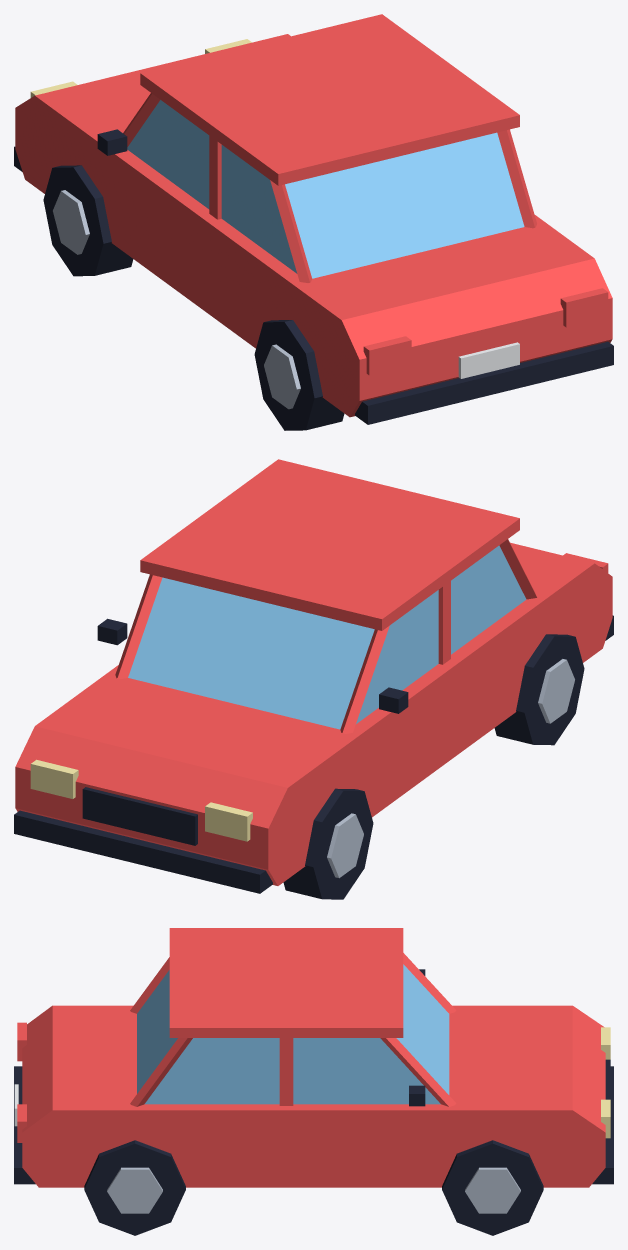
The model's file is car_hatch.glb.
3 views of the same model, one above another, from view 1: azimuth 30°, elevation 25°; view 2: azimuth 150°, elevation 25°; view 3: azimuth 270°, elevation 25° (orthographic). The views are drawn at different scales.
Parts seen in each view (by area): view 1: CarLower_01, Roof_01, CarCabin_01, BumperB_01, Tyre_01, Tyre_03, Hub_03, Hub_01, Plate_01, Taillight_01, Taillight_02, Pillar_03 (+4 smaller); view 2: CarLower_01, Roof_01, CarCabin_01, BumperF_01, Tyre_03, Tyre_01, Grille_01, Hub_03, Hub_01, Pillar_01, Pillar_02, Headlight_02 (+5 smaller); view 3: CarLower_01, Roof_01, CarCabin_01, Tyre_04, Tyre_02, Hub_04, Hub_02, Pillar_02, Pillar_04, BPillar_02, BumperB_01, BumperF_01 (+2 smaller).
Boxes of the visible parts, box(x1,y1,x2,y2) form: CarLower_01: box(15, 34, 612, 417); Roof_01: box(140, 14, 519, 185); CarCabin_01: box(127, 100, 524, 278); BumperB_01: box(355, 341, 613, 424); Tyre_01: box(43, 165, 133, 276); Tyre_03: box(254, 320, 344, 430); Hub_03: box(264, 344, 300, 409); Hub_01: box(53, 190, 89, 254); Plate_01: box(458, 342, 519, 378); Taillight_01: box(363, 336, 411, 375); Taillight_02: box(560, 288, 608, 327); Pillar_03: box(270, 180, 312, 282); CarLower_01: box(15, 542, 612, 885); Roof_01: box(140, 459, 519, 630); CarCabin_01: box(128, 545, 526, 729); BumperF_01: box(14, 810, 272, 893); Tyre_03: box(494, 634, 584, 745); Tyre_01: box(283, 788, 373, 899); Grille_01: box(82, 787, 197, 845); Hub_03: box(538, 659, 574, 723); Hub_01: box(327, 813, 363, 878); Pillar_01: box(340, 625, 389, 733); Pillar_02: box(115, 574, 162, 678); Headlight_02: box(30, 759, 78, 798); CarLower_01: box(22, 1005, 605, 1187); Roof_01: box(169, 928, 403, 1037); CarCabin_01: box(137, 964, 449, 1104); Tyre_04: box(84, 1140, 185, 1235); Tyre_02: box(442, 1140, 543, 1235); Hub_04: box(107, 1167, 162, 1213); Hub_02: box(465, 1167, 520, 1213); Pillar_02: box(380, 1038, 456, 1106); Pillar_04: box(130, 1038, 192, 1106); BPillar_02: box(279, 1038, 293, 1105); BumperB_01: box(14, 1066, 35, 1184); BumperF_01: box(592, 1066, 613, 1184).
Bounding box in the file's own units: 2.14 × 1.62 × 4.36.
